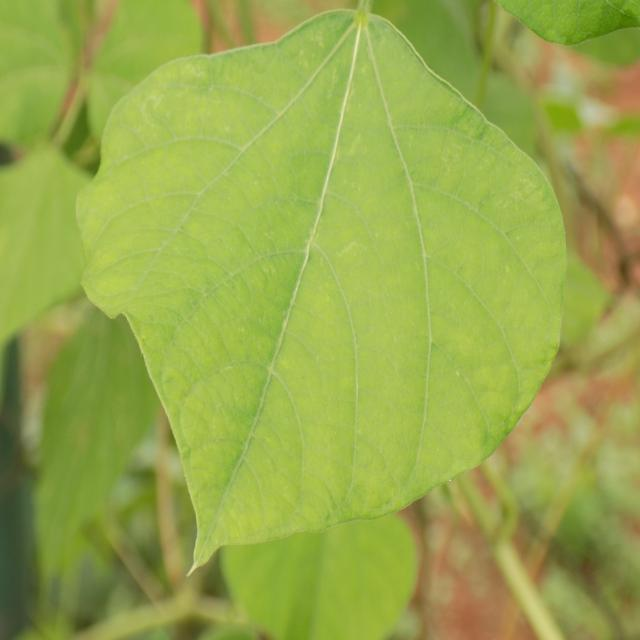Dolicos bean_healthy: (74, 13, 564, 566), (22, 257, 190, 571), (225, 436, 412, 640), (0, 137, 118, 345), (81, 0, 210, 162)
